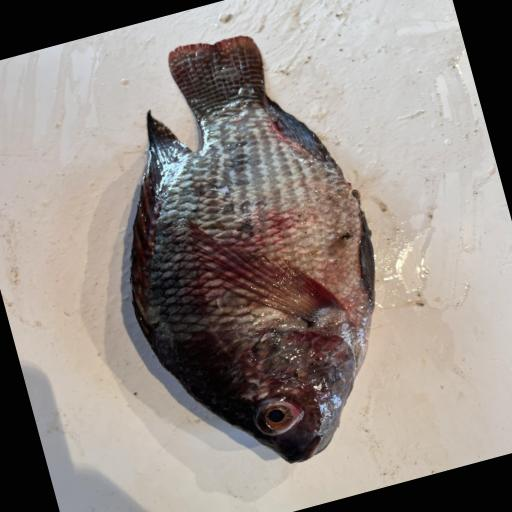Tilapia: (71, 10, 424, 493)
